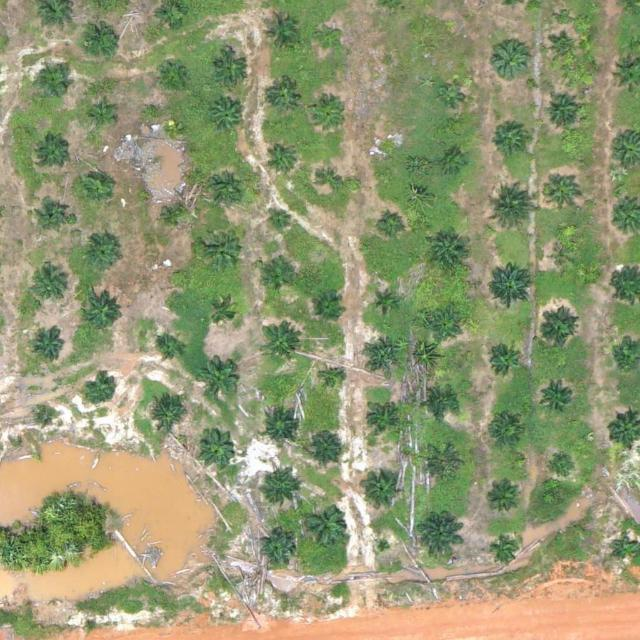Kelapa_Sawit: (77, 18, 123, 65), (199, 222, 245, 269), (416, 510, 462, 557), (299, 502, 345, 549), (486, 186, 532, 232), (487, 257, 533, 303), (361, 333, 400, 372), (197, 359, 236, 398), (490, 38, 529, 77), (211, 50, 250, 89), (537, 310, 576, 349), (540, 376, 579, 415), (258, 470, 297, 509), (195, 427, 234, 466), (362, 470, 401, 509), (257, 530, 296, 569), (259, 322, 297, 361), (82, 290, 120, 329), (426, 232, 464, 271), (490, 118, 528, 157), (31, 266, 69, 305), (206, 170, 244, 209), (261, 15, 299, 54), (80, 233, 118, 272), (542, 91, 580, 130), (543, 171, 581, 210), (424, 445, 462, 484), (146, 393, 184, 432), (209, 99, 247, 137), (262, 408, 300, 446), (304, 426, 342, 464), (425, 388, 456, 419), (428, 312, 459, 343), (33, 331, 64, 362), (84, 373, 115, 404), (487, 344, 518, 375), (38, 196, 69, 227), (40, 68, 71, 99), (37, 136, 68, 167), (156, 57, 187, 88), (269, 79, 300, 110), (313, 99, 344, 130), (258, 263, 289, 294), (79, 171, 110, 202), (486, 483, 517, 514), (490, 414, 521, 445), (365, 402, 396, 433), (548, 450, 579, 481), (490, 534, 521, 565), (312, 293, 343, 324), (206, 298, 237, 329), (153, 334, 184, 365), (158, 198, 189, 229), (546, 34, 577, 65), (266, 144, 297, 175), (443, 152, 466, 175), (89, 103, 112, 126), (552, 245, 575, 268), (371, 290, 394, 313), (380, 213, 403, 236), (322, 369, 345, 392), (268, 208, 291, 231), (316, 27, 339, 50), (439, 81, 462, 104), (377, 142, 400, 165), (319, 168, 342, 191), (37, 407, 52, 422), (164, 120, 179, 135), (168, 267, 183, 282)
